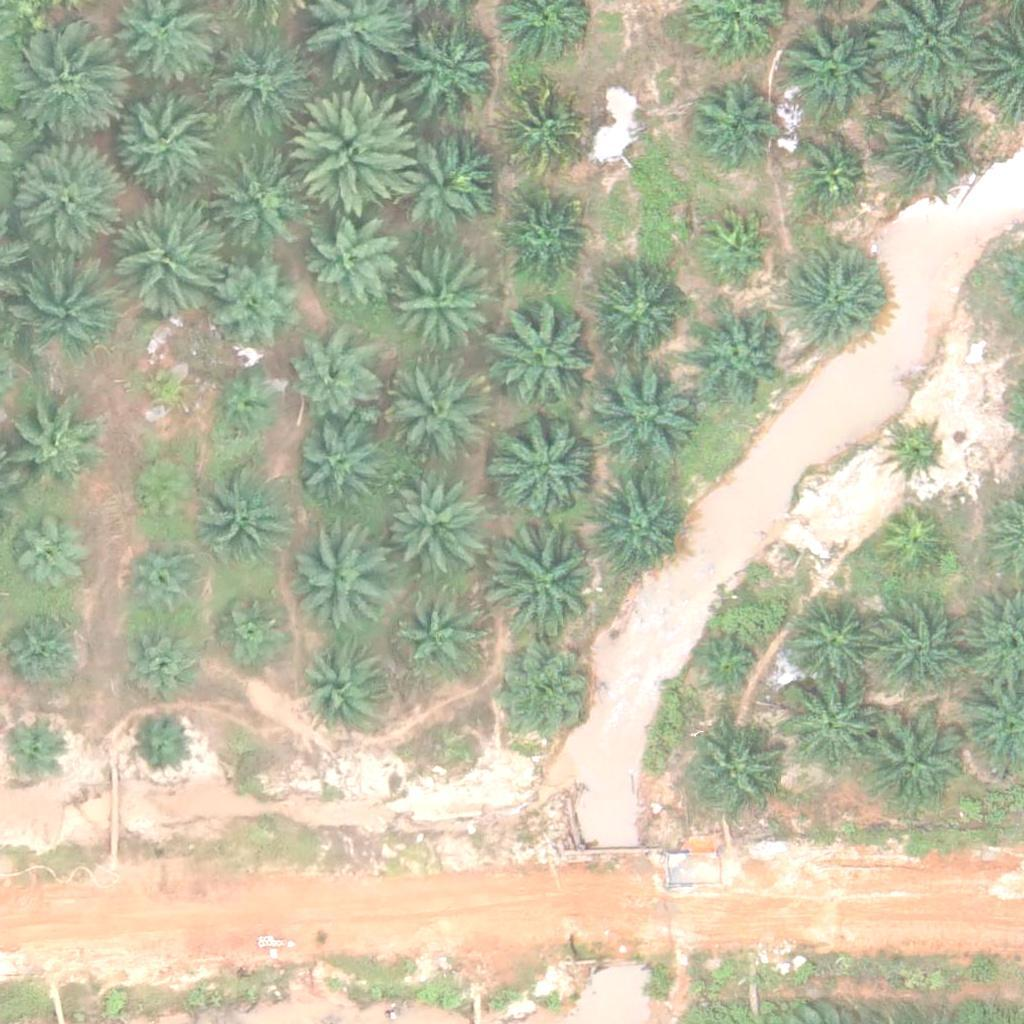Kelapa_Sawit: (295, 89, 420, 215), (857, 709, 970, 822), (586, 355, 699, 468), (487, 299, 600, 412), (491, 410, 604, 523), (203, 27, 316, 140), (110, 82, 223, 195), (7, 143, 120, 256), (7, 245, 119, 359), (490, 522, 602, 635), (108, 200, 220, 313), (5, 34, 117, 147), (777, 18, 877, 119), (868, 604, 968, 705), (783, 595, 883, 696), (585, 476, 685, 577), (685, 721, 785, 822), (493, 649, 593, 750), (404, 19, 504, 120), (390, 256, 490, 357), (385, 368, 485, 469), (381, 476, 481, 577), (207, 148, 307, 249), (209, 249, 309, 350), (1, 397, 101, 498), (200, 463, 300, 564), (875, 93, 975, 193), (785, 253, 885, 353), (778, 675, 878, 775), (691, 306, 791, 406), (389, 126, 489, 226), (292, 528, 392, 628), (685, 78, 773, 166), (596, 273, 684, 361), (496, 84, 584, 172), (289, 336, 377, 424), (114, 619, 202, 707), (292, 423, 379, 512), (499, 192, 586, 280), (399, 594, 486, 682), (301, 643, 388, 731), (307, 216, 394, 304), (124, 538, 211, 626), (7, 521, 82, 597), (9, 609, 84, 685), (208, 369, 283, 445), (697, 209, 772, 285), (127, 456, 202, 532), (215, 591, 290, 666), (792, 135, 867, 210), (876, 509, 951, 584), (691, 633, 766, 708), (885, 422, 948, 485), (131, 713, 193, 776), (134, 357, 196, 420)
